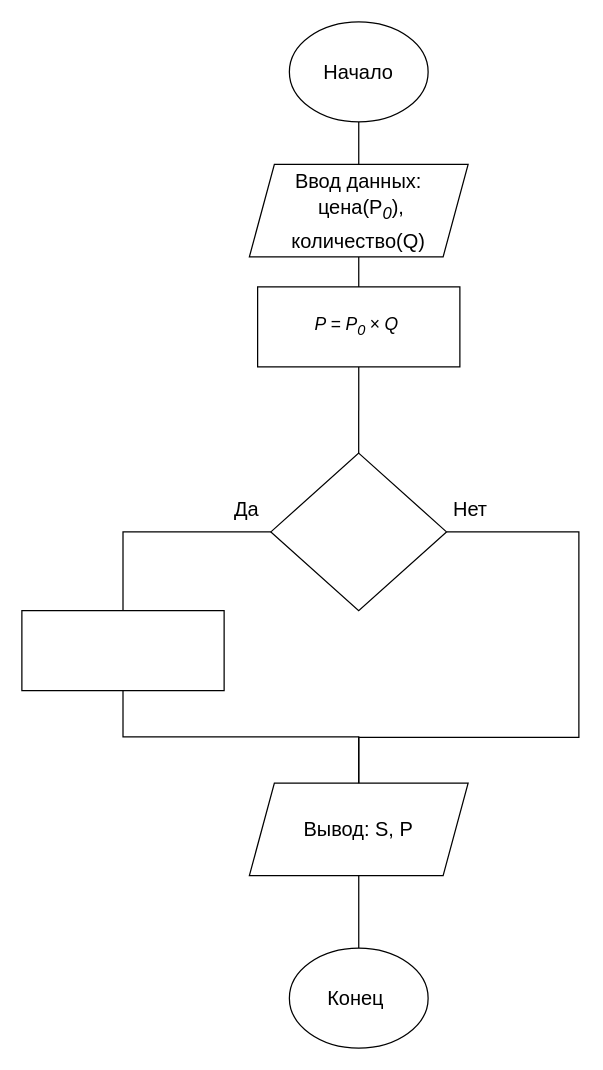
Some shapes in this 603 by 1070 pixel diagram are drawn without their labels. The shapes that lost their labels are listed below. From the top down, each one's centre as x and y in pixels, then its label:
At [358,531]: "Есть скидка?".
At [122,650]: "S = P 0 × (1 − d / 100),".
